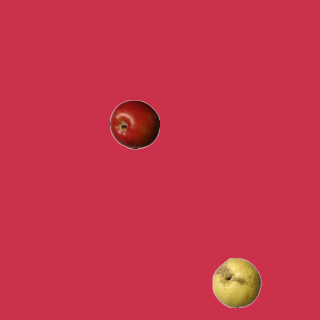Apple Braeburn: (109, 99, 159, 149)
Apple Golden 1: (211, 257, 261, 307)
